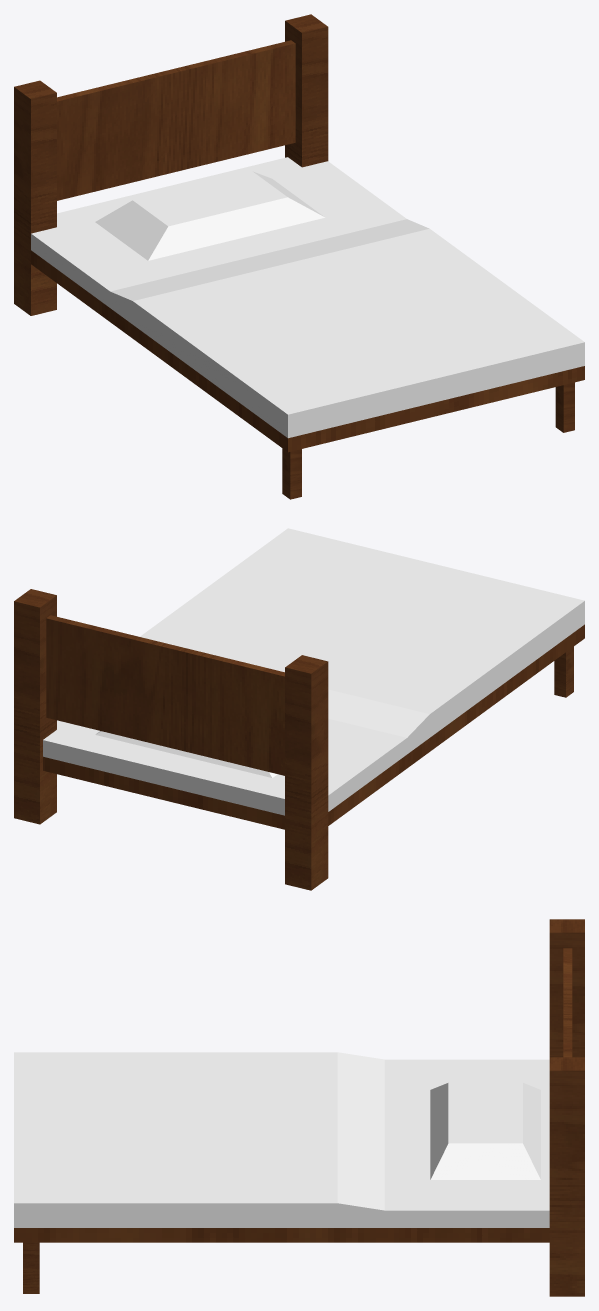
The model's file is Bed.glb.
3 views of the same model, one above another, from view 1: azimuth 30°, elevation 25°; view 2: azimuth 150°, elevation 25°; view 3: azimuth 270°, elevation 25° (orthographic). The views are drawn at different scales.
Visible parts, largest first — view 1: Bed, Frame, BigLeg, Pillow, SmallLeg; view 2: Bed, Frame, BigLeg, Pillow, SmallLeg; view 3: Bed, BigLeg, Pillow, Frame, SmallLeg.
Boxes of the visible parts, <box> form: Bed: <box>31,157,584,452</box>; Frame: <box>57,40,295,200</box>; BigLeg: <box>14,14,328,315</box>; Pillow: <box>95,171,324,260</box>; SmallLeg: <box>282,382,574,499</box>; Bed: <box>43,528,584,829</box>; Frame: <box>46,615,284,775</box>; BigLeg: <box>14,589,328,890</box>; Pillow: <box>95,731,277,777</box>; SmallLeg: <box>554,646,573,697</box>; Bed: <box>14,1052,549,1242</box>; BigLeg: <box>549,919,584,1296</box>; Pillow: <box>430,1082,540,1179</box>; Frame: <box>563,948,572,1057</box>; SmallLeg: <box>23,1242,39,1293</box>.
Size of the model in its own units: 6.26 by 4.37 by 9.99.
Materials: 5 (1 with a texture image).
